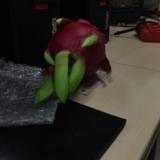pitaya: (38, 18, 104, 101)
